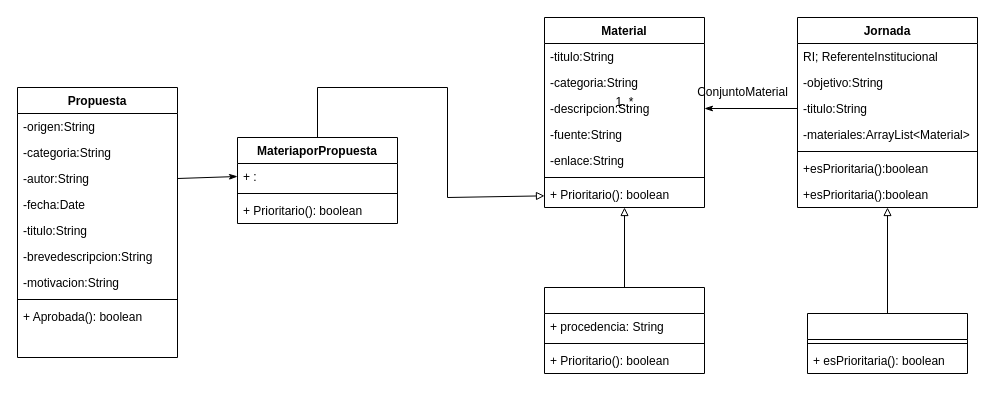
Some shapes in this 995 by 394 pixel diagram are drawn without their labels. Here are the shapes that lost their labels. From the top down, the box of each, then its label:
(544, 286, 704, 374): MaterialesInstitucionales
(806, 312, 968, 374): JornadaPrioritaria
